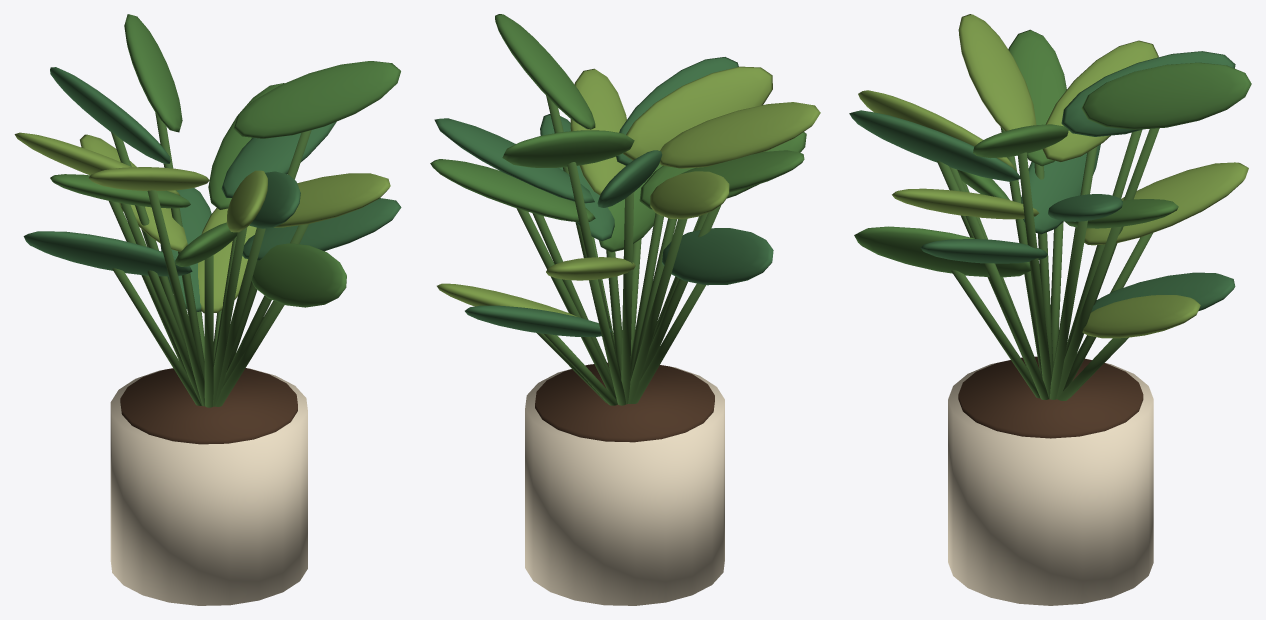
The model's file is plant.glb.
The picture shows the model from 3 angles, left to right: view 1: azimuth 30°, elevation 25°; view 2: azimuth 150°, elevation 25°; view 3: azimuth 270°, elevation 25°; orthographic projection. The views are drawn at different scales.
Parts seen in each view (by area): view 1: Ceramic planter, Soil, Leaf.006, Leaf.009, Leaf.002, Leaf.001, Leaf.014, Leaf, Leaf.005, Leaf.011, Leaf.007, Stem.007 (+20 smaller); view 2: Ceramic planter, Soil, Leaf.007, Leaf.004, Leaf.002, Leaf.003, Leaf, Leaf.006, Leaf.011, Leaf.001, Leaf.010, Leaf.008 (+21 smaller); view 3: Ceramic planter, Soil, Leaf, Leaf.007, Leaf.013, Leaf.017, Leaf.009, Leaf.016, Leaf.015, Leaf.010, Leaf.008, Leaf.001 (+22 smaller).
Boxes of the visible parts, x1=… form: Ceramic planter: x1=110, y1=368, x2=307, y2=605; Soil: x1=120, y1=368, x2=297, y2=444; Leaf.006: x1=233, y1=61, x2=400, y2=138; Leaf.009: x1=251, y1=243, x2=346, y2=307; Leaf.002: x1=23, y1=231, x2=192, y2=276; Leaf.001: x1=274, y1=173, x2=390, y2=227; Leaf.014: x1=242, y1=198, x2=401, y2=260; Leaf: x1=124, y1=14, x2=182, y2=132; Leaf.005: x1=50, y1=67, x2=170, y2=163; Leaf.011: x1=221, y1=121, x2=336, y2=197; Leaf.007: x1=89, y1=167, x2=209, y2=190; Stem.007: x1=147, y1=190, x2=204, y2=406; Ceramic planter: x1=525, y1=367, x2=724, y2=605; Soil: x1=535, y1=362, x2=714, y2=442; Leaf.007: x1=659, y1=102, x2=820, y2=168; Leaf.004: x1=623, y1=66, x2=772, y2=160; Leaf.002: x1=662, y1=228, x2=773, y2=285; Leaf.003: x1=430, y1=159, x2=595, y2=222; Leaf: x1=502, y1=130, x2=634, y2=167; Leaf.006: x1=495, y1=14, x2=595, y2=129; Leaf.011: x1=434, y1=118, x2=594, y2=203; Leaf.001: x1=570, y1=68, x2=626, y2=195; Leaf.010: x1=650, y1=171, x2=729, y2=219; Leaf.008: x1=465, y1=305, x2=611, y2=336; Ceramic planter: x1=948, y1=358, x2=1153, y2=605; Soil: x1=958, y1=356, x2=1143, y2=438; Leaf: x1=1081, y1=62, x2=1251, y2=129; Leaf.007: x1=958, y1=14, x2=1036, y2=131; Leaf.013: x1=1084, y1=162, x2=1248, y2=245; Leaf.017: x1=849, y1=110, x2=1020, y2=181; Leaf.009: x1=854, y1=226, x2=1030, y2=277; Leaf.016: x1=1082, y1=295, x2=1200, y2=338; Leaf.015: x1=1008, y1=29, x2=1066, y2=166; Leaf.010: x1=1042, y1=40, x2=1158, y2=161; Leaf.008: x1=1091, y1=272, x2=1235, y2=312; Leaf.001: x1=892, y1=188, x2=1039, y2=219.
Bounding box in the file's own units: 1.53 × 2.15 × 1.57.
